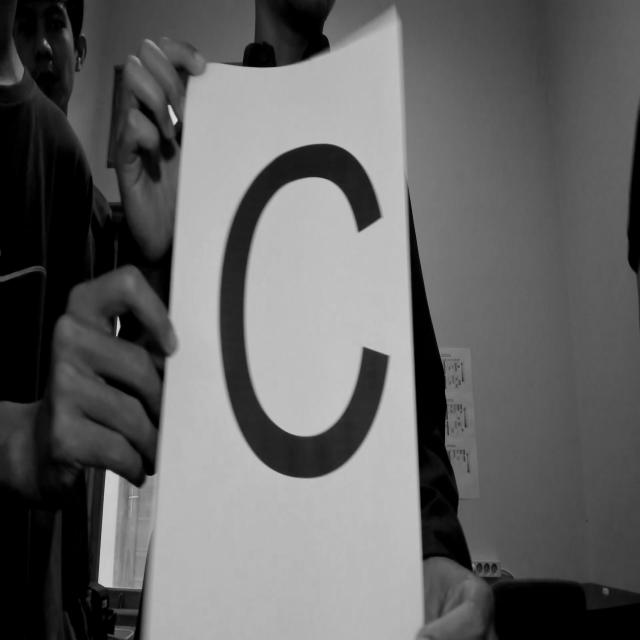c: (208, 126, 398, 495)
